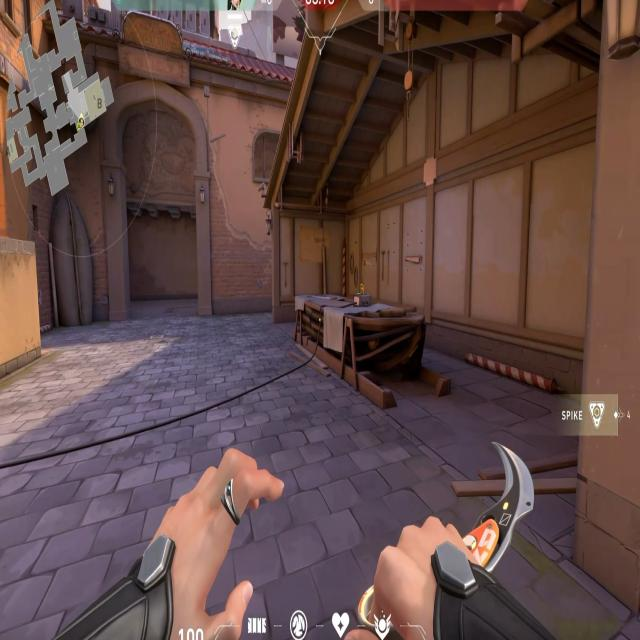B_Garage_Left: (264, 209, 395, 412)
Throwables: (252, 126, 282, 188)
